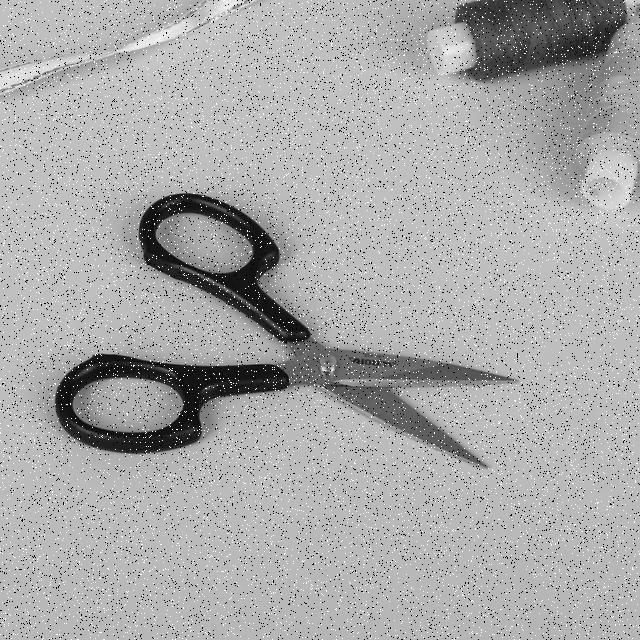scissors: (50, 180, 522, 477)
